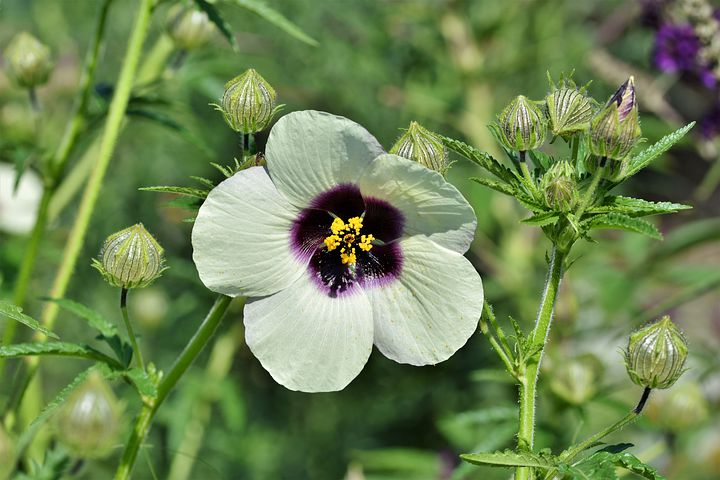Hibiscus: (188, 98, 499, 398), (42, 354, 155, 471), (607, 290, 707, 406), (88, 203, 166, 303), (209, 79, 299, 146), (588, 62, 642, 160), (507, 68, 555, 154), (9, 30, 72, 92)
